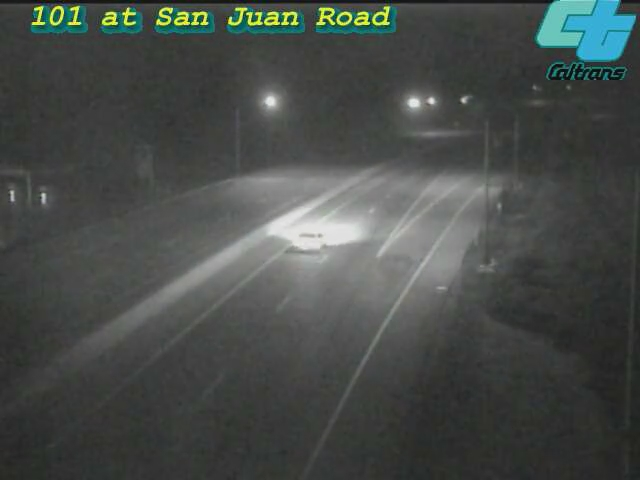vehicle: (261, 204, 341, 284)
